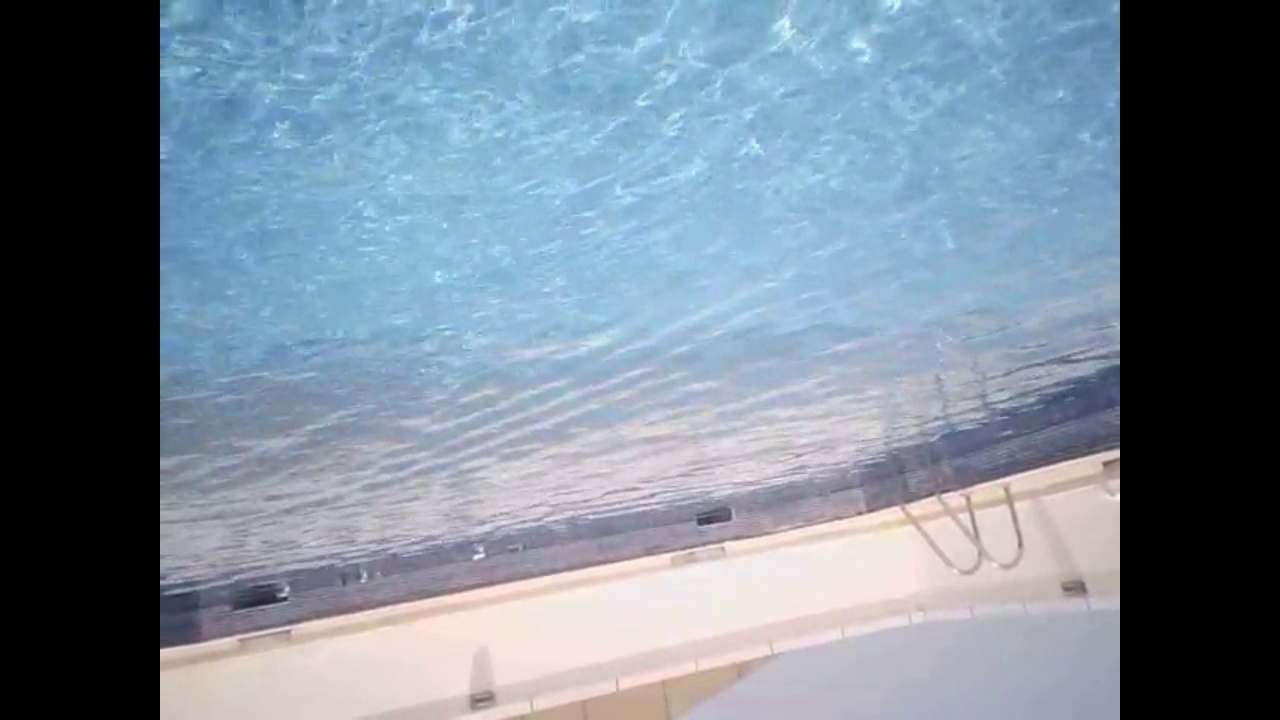debris: (501, 540, 526, 557), (467, 547, 490, 564), (269, 583, 291, 600), (354, 569, 370, 585), (329, 575, 348, 588), (368, 568, 385, 581)
